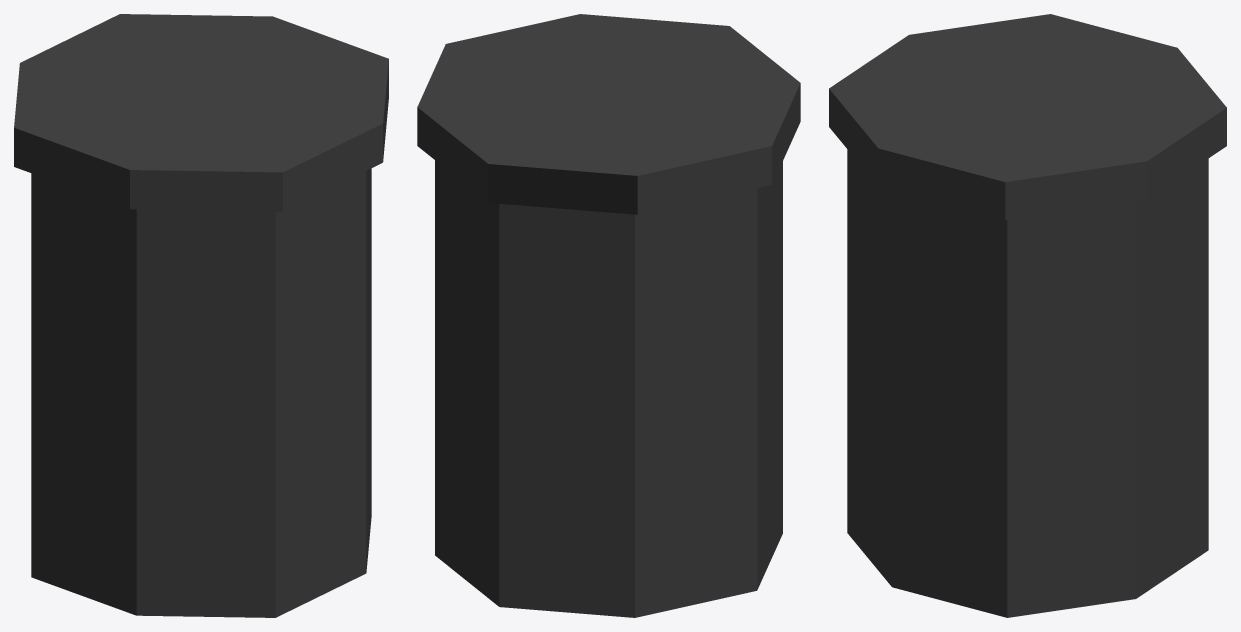
File: Kitchen_Jar2.fbx
The picture shows the model from 3 angles, left to right: view 1: azimuth 30°, elevation 25°; view 2: azimuth 150°, elevation 25°; view 3: azimuth 270°, elevation 25°; orthographic projection. The views are drawn at different scales.
Parts seen in each view (by area): view 1: Kitchen_Jar2; view 2: Kitchen_Jar2; view 3: Kitchen_Jar2.
Part boxes in pixels (left/top/right/bottom): Kitchen_Jar2: left=14, top=14, right=388, bottom=617; Kitchen_Jar2: left=417, top=14, right=800, bottom=617; Kitchen_Jar2: left=829, top=14, right=1226, bottom=617.
Bounding box in the file's own units: 29.08 × 29.08 × 35.75.
